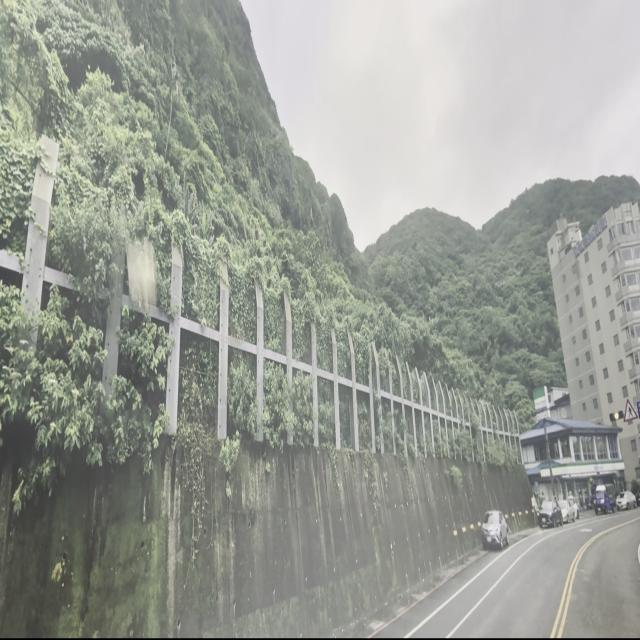Rock: (126, 246, 156, 306)
